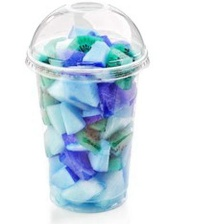glass: (21, 0, 153, 216)
